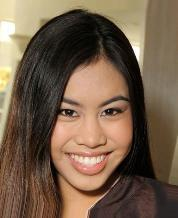face: (59, 100, 123, 177)
